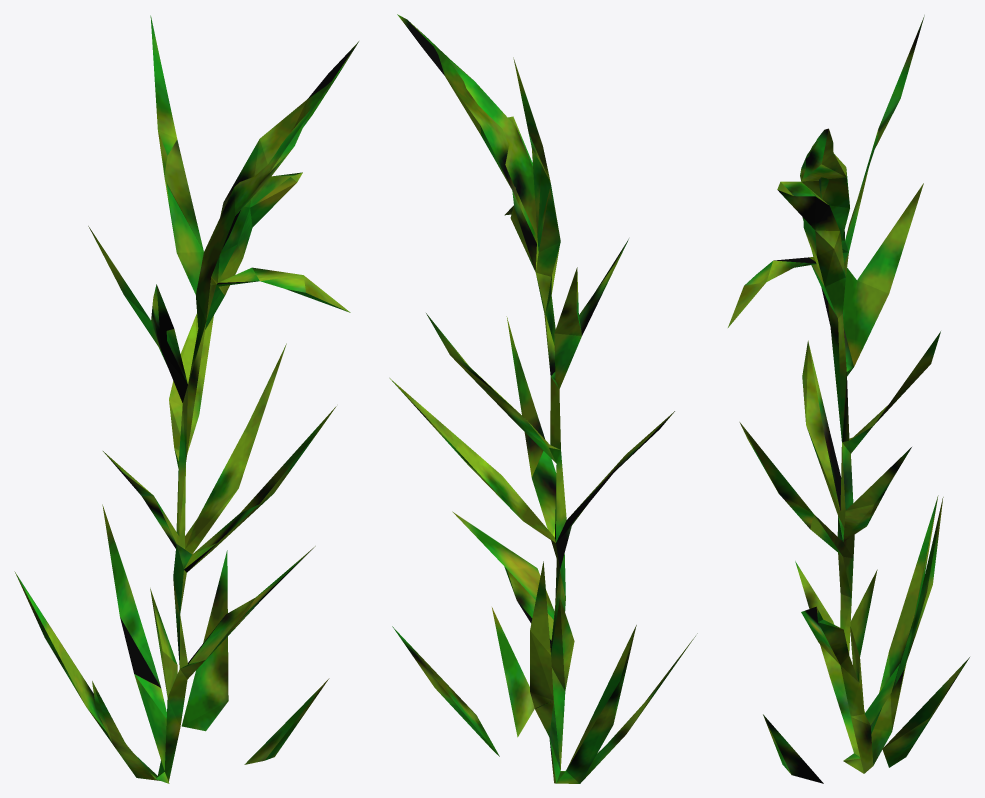
File: rice.glb
The picture shows the model from 3 angles, left to right: view 1: azimuth 30°, elevation 25°; view 2: azimuth 150°, elevation 25°; view 3: azimuth 270°, elevation 25°; orthographic projection. The views are drawn at different scales.
Visible parts, largest first — view 1: Mesh1.0; view 2: Mesh1.0; view 3: Mesh1.0.
Part boxes in pixels (left/top/right/bottom): Mesh1.0: left=14, top=15, right=358, bottom=783; Mesh1.0: left=389, top=14, right=697, bottom=783; Mesh1.0: left=728, top=15, right=969, bottom=783.
Size of the model in its own units: 0.7469 by 1.82 by 0.5224.
1 material, 1 textured.
